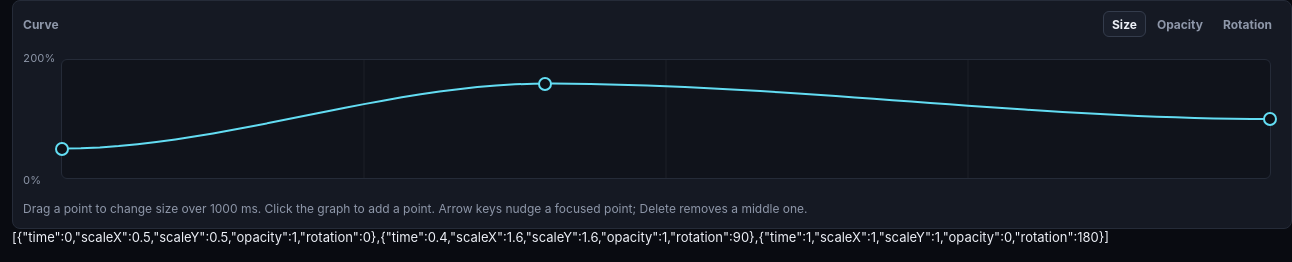
KeyframeCurveGraph › labels each point and switches the value it shows
Check: the button named "Size point 2 of 3: 160% at 400 ms" is shown, box [538,77,552,91]
Click the radio button labelled "Rotation" at [1248, 24], box [1214,11,1281,37]
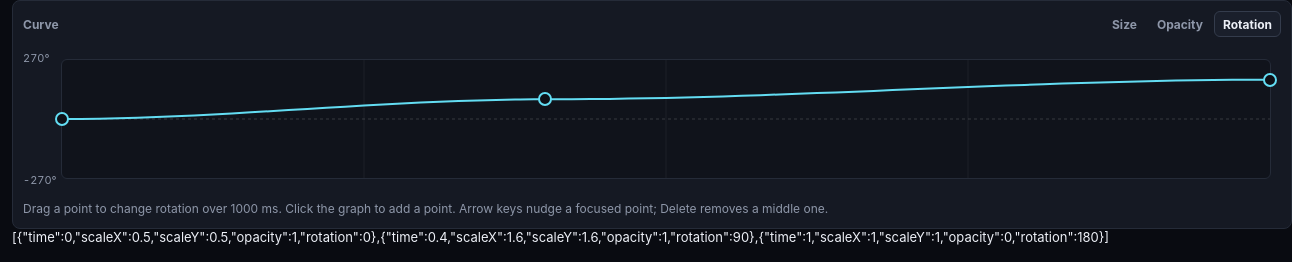
Check: the button named "Rotation point 3 of 3: 180° at 1000 ms" is shown, box [1263,73,1277,87]
